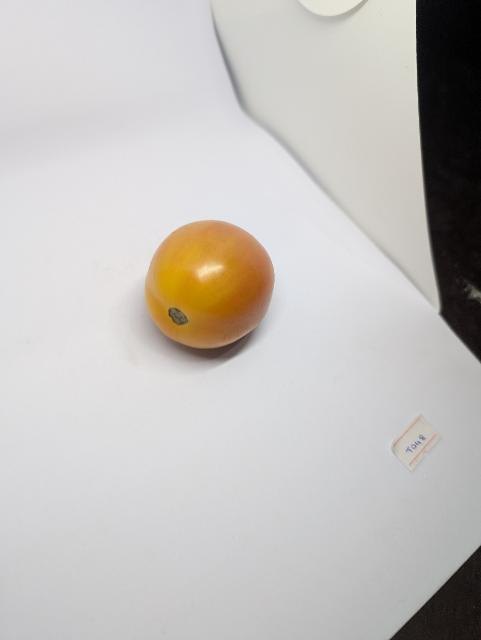turning: (140, 213, 280, 358)
